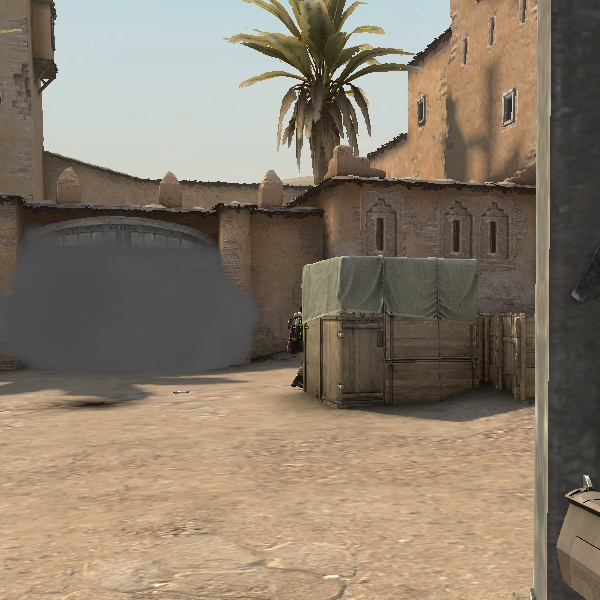ct_body: (287, 305, 306, 388)
